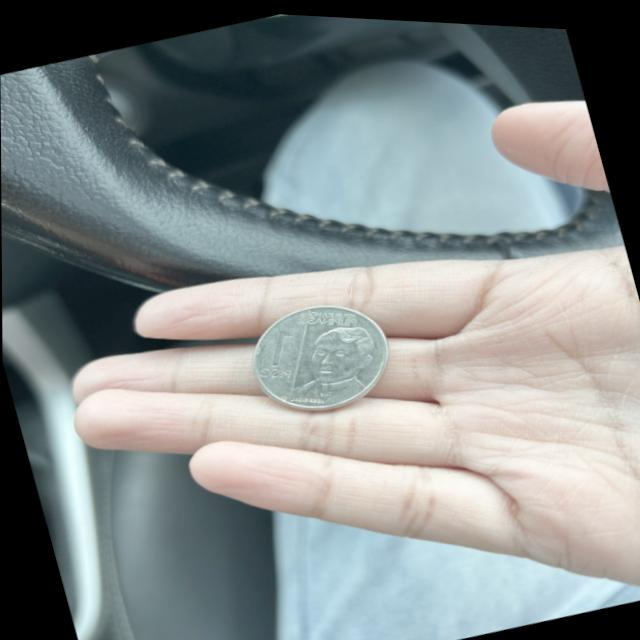1_New_Front: (242, 317, 311, 383)
